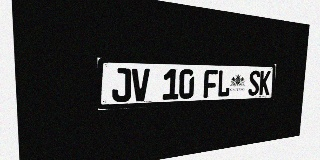0: (179, 69, 194, 99)
1: (163, 69, 179, 100)
F: (203, 70, 218, 98)
J: (112, 68, 131, 102)
K: (259, 71, 271, 95)
L: (217, 70, 231, 97)
S: (248, 70, 260, 96)
V: (132, 68, 150, 101)
